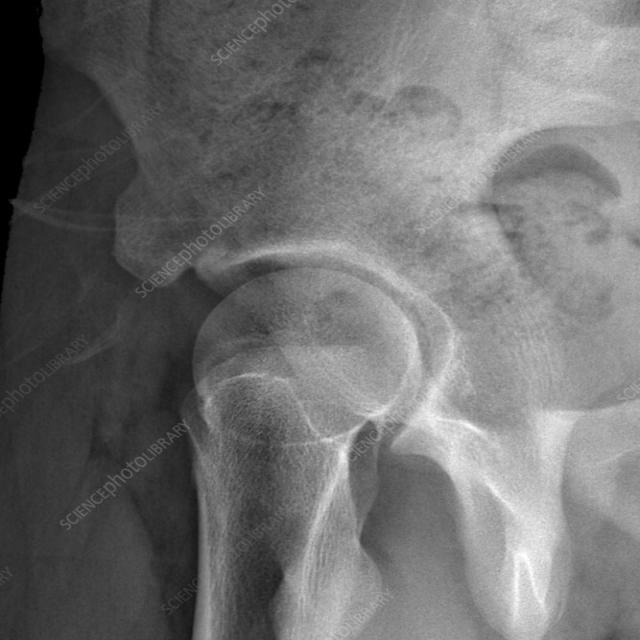fracture: (213, 253, 503, 493)
